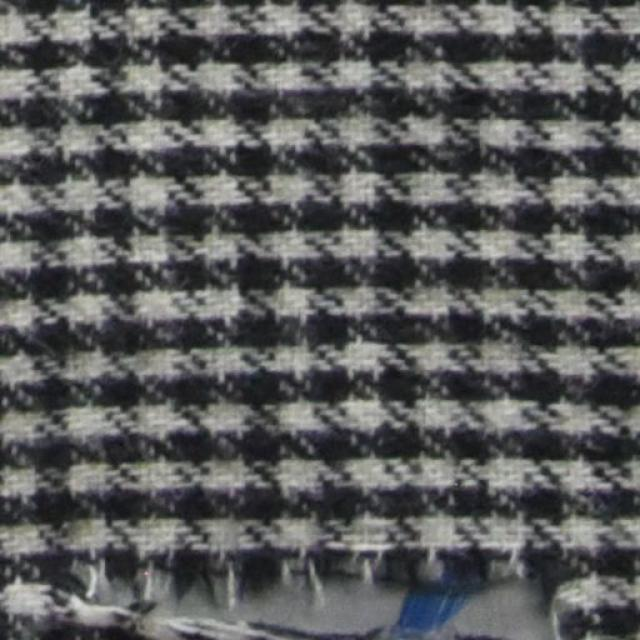Hole: (85, 567, 560, 639)
